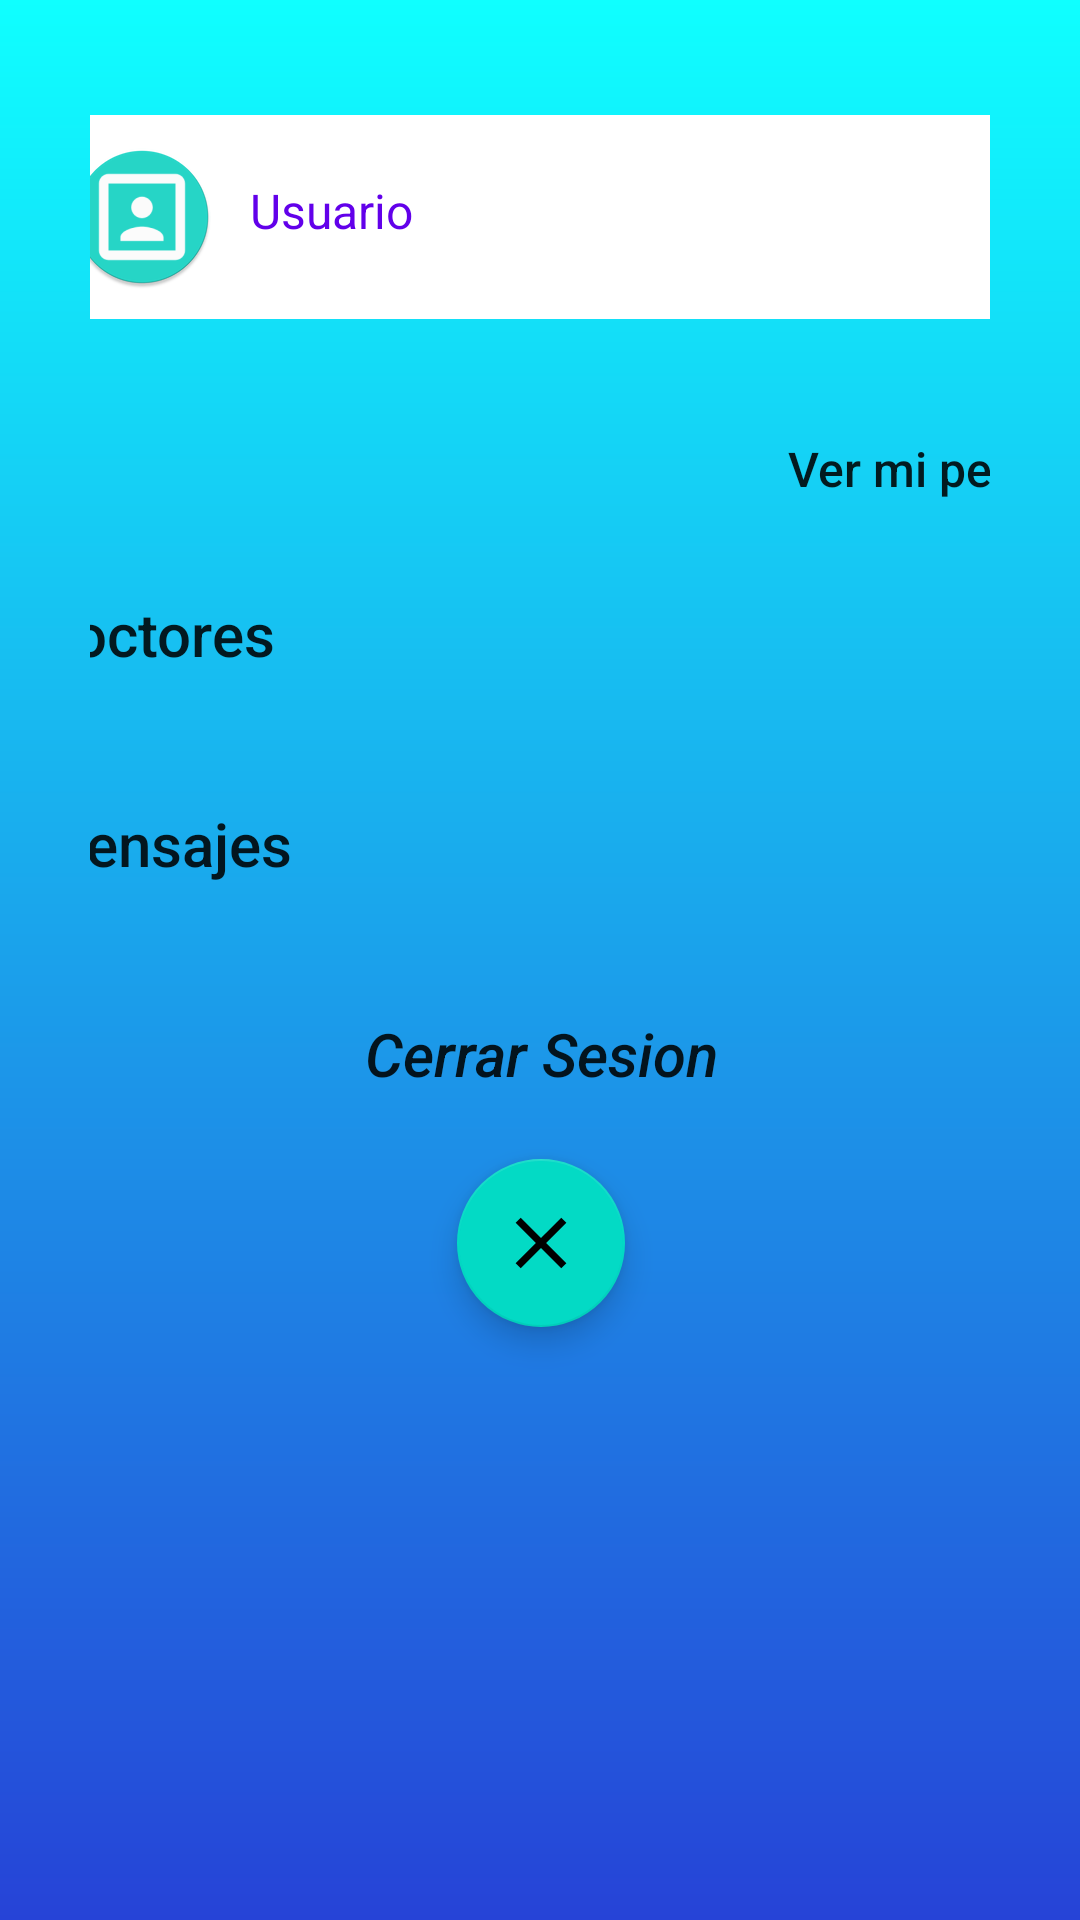

Screen size 1080px x 1920px. Icon name, then its box in pixels as Rect(x1, y1, x2, y2):
perfil round: Rect(90, 115, 250, 319)
sinmenu: Rect(457, 1159, 625, 1327)
